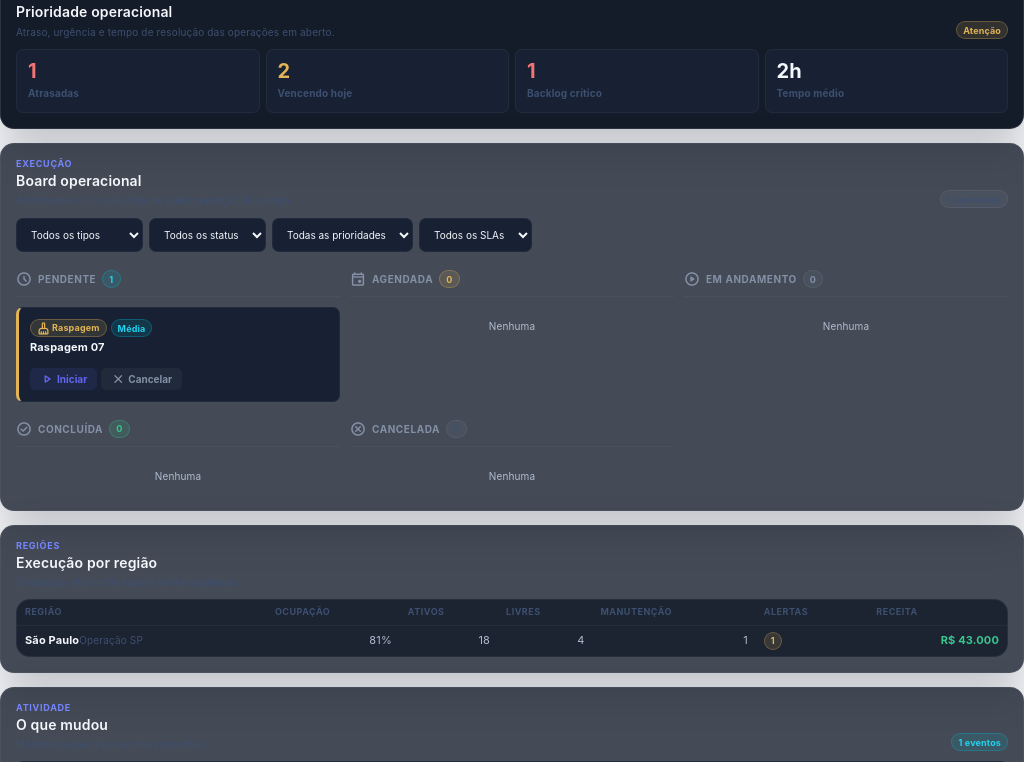
Test: OperationsPage smoke › cancela usando payload objeto com o id canonico da operacao
Later steps or results of the test are not shown.
(page scrolled)
Click the button "Cancelar" at (142, 378), box [101,368,182,390]
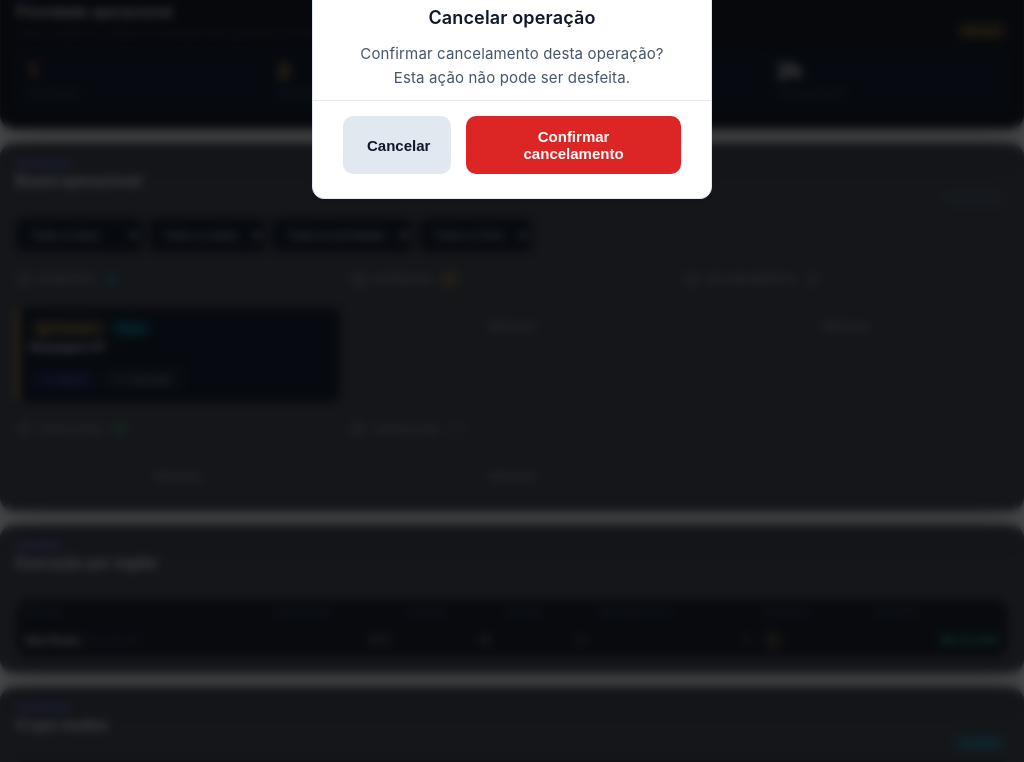
expect the button with test id "confirmation-modal-confirm" is shown: met, box [466,116,681,174]
